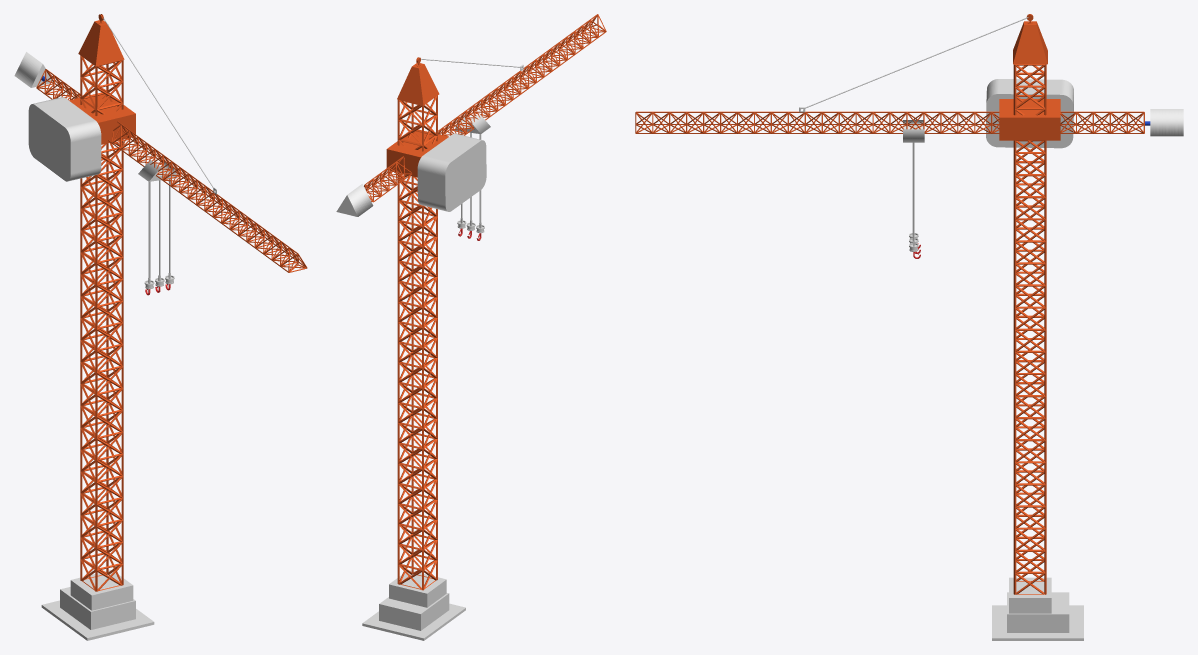
File: lift01.fbx
3 views of the same model, side by side, from view 1: azimuth 30°, elevation 25°; view 2: azimuth 150°, elevation 25°; view 3: azimuth 270°, elevation 25° (orthographic). The views are drawn at different scales.
Visible parts, largest first — view 1: Box107, Cylinder021, Gengon002, Box110, Box108, Box109, Cylinder031, Cylinder025; view 2: Box107, Cylinder021, Gengon002, Box110, Box108, Box109, Cylinder031; view 3: Box107, Cylinder021, Box110, Gengon002, Box108, Box109, Cylinder031.
Part boxes in pixels (box(x1,y1,x2,y2)): Box107: box(80, 55, 123, 591); Cylinder021: box(36, 69, 307, 272); Gengon002: box(28, 97, 101, 181); Box110: box(41, 570, 154, 640); Box108: box(69, 92, 135, 144); Box109: box(78, 20, 124, 66); Cylinder031: box(14, 52, 52, 87); Cylinder025: box(138, 160, 177, 181); Box107: box(397, 95, 437, 590); Cylinder021: box(364, 14, 606, 202); Gengon002: box(417, 133, 486, 211); Box110: box(362, 570, 465, 640); Box108: box(386, 129, 448, 177); Box109: box(397, 63, 439, 105); Cylinder031: box(336, 184, 373, 216); Box107: box(1013, 64, 1046, 594); Cylinder021: box(635, 111, 1144, 133); Box110: box(992, 577, 1083, 640); Gengon002: box(986, 79, 1073, 148); Box108: box(999, 99, 1060, 140); Box109: box(1013, 21, 1047, 64); Cylinder031: box(1150, 109, 1183, 136).
Bounding box in the file's own units: 4.29 × 28.7 × 23.4.
